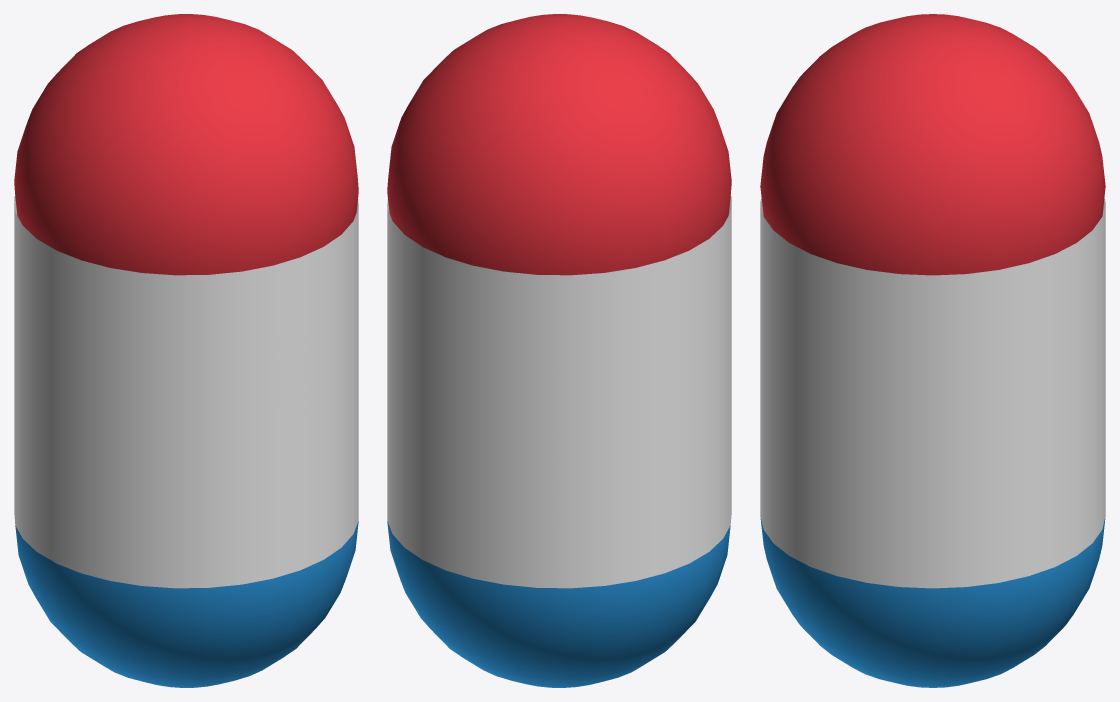
The model's file is Pill.fbx.
The picture shows the model from 3 angles, left to right: view 1: azimuth 30°, elevation 25°; view 2: azimuth 150°, elevation 25°; view 3: azimuth 270°, elevation 25°; orthographic projection.
Parts seen in each view (by area): view 1: Cylinder, Sphere, Sphere.001; view 2: Cylinder, Sphere, Sphere.001; view 3: Cylinder, Sphere, Sphere.001.
Part boxes in pixels (x1,y1,x2,y2): Cylinder: (14, 195, 358, 588); Sphere: (14, 14, 358, 275); Sphere.001: (15, 521, 358, 687); Cylinder: (387, 195, 731, 588); Sphere: (387, 14, 731, 275); Sphere.001: (387, 521, 730, 687); Cylinder: (760, 198, 1105, 588); Sphere: (760, 14, 1105, 275); Sphere.001: (760, 516, 1105, 687).
Bounding box in the file's own units: 200 × 410 × 200.
